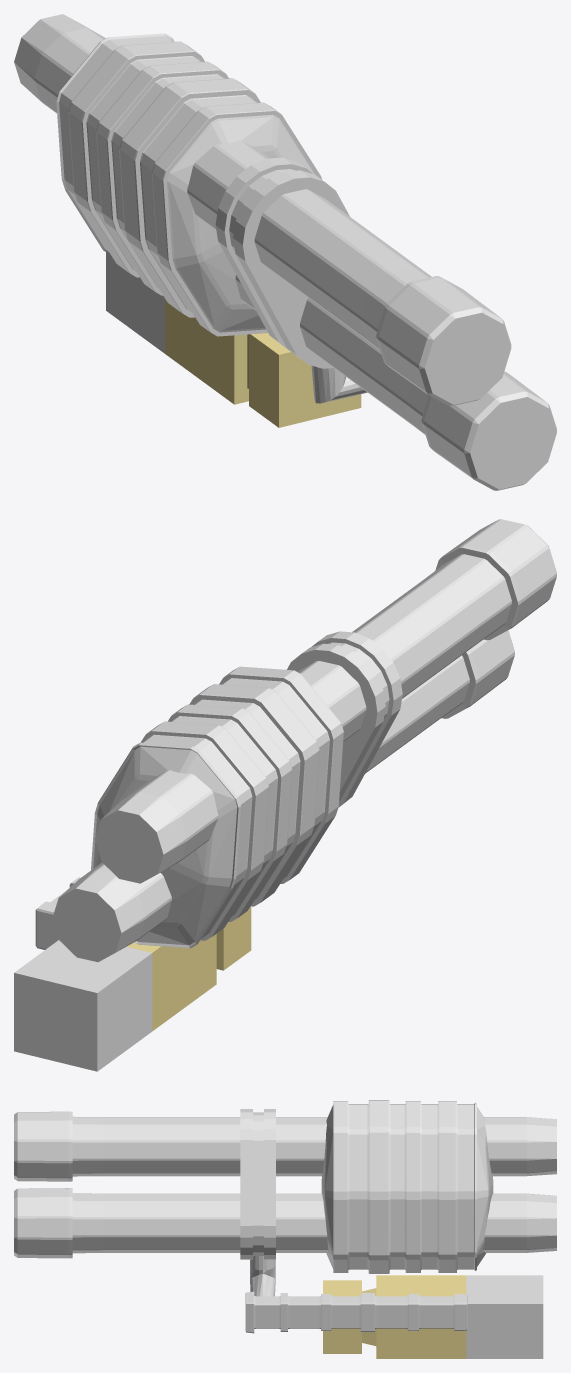
File: rocket_launcher2.obj
The picture shows the model from 3 angles, top to bottom: view 1: azimuth 30°, elevation 25°; view 2: azimuth 150°, elevation 25°; view 3: azimuth 270°, elevation 25°; orthographic projection. The views are drawn at different scales.
Visible parts, largest first — view 1: user defined4, cube5; view 2: user defined4, cube5; view 3: user defined4, cube5.
Part boxes in pixels (x1=…): user defined4: x1=14, y1=14, x2=556, y2=490; cube5: x1=106, y1=252, x2=361, y2=427; user defined4: x1=35, y1=519, x2=556, y2=962; cube5: x1=14, y1=906, x2=251, y2=1071; user defined4: x1=14, y1=1100, x2=556, y2=1333; cube5: x1=323, y1=1275, x2=543, y2=1358.
Bounding box in the file's own units: 20.77 × 27.9 × 64.36.
Materials: 2 (2 with a texture image).
